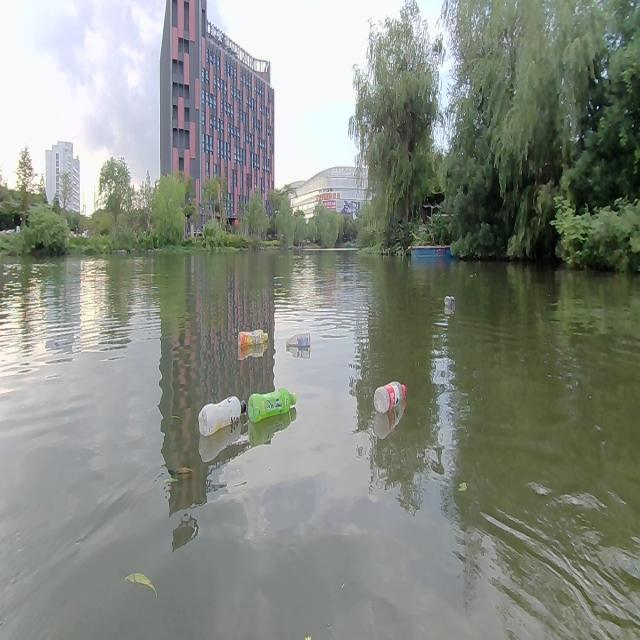bottle: (197, 394, 245, 437), (249, 392, 297, 420), (371, 377, 409, 411), (236, 325, 268, 351), (284, 332, 312, 350), (444, 293, 454, 313)
